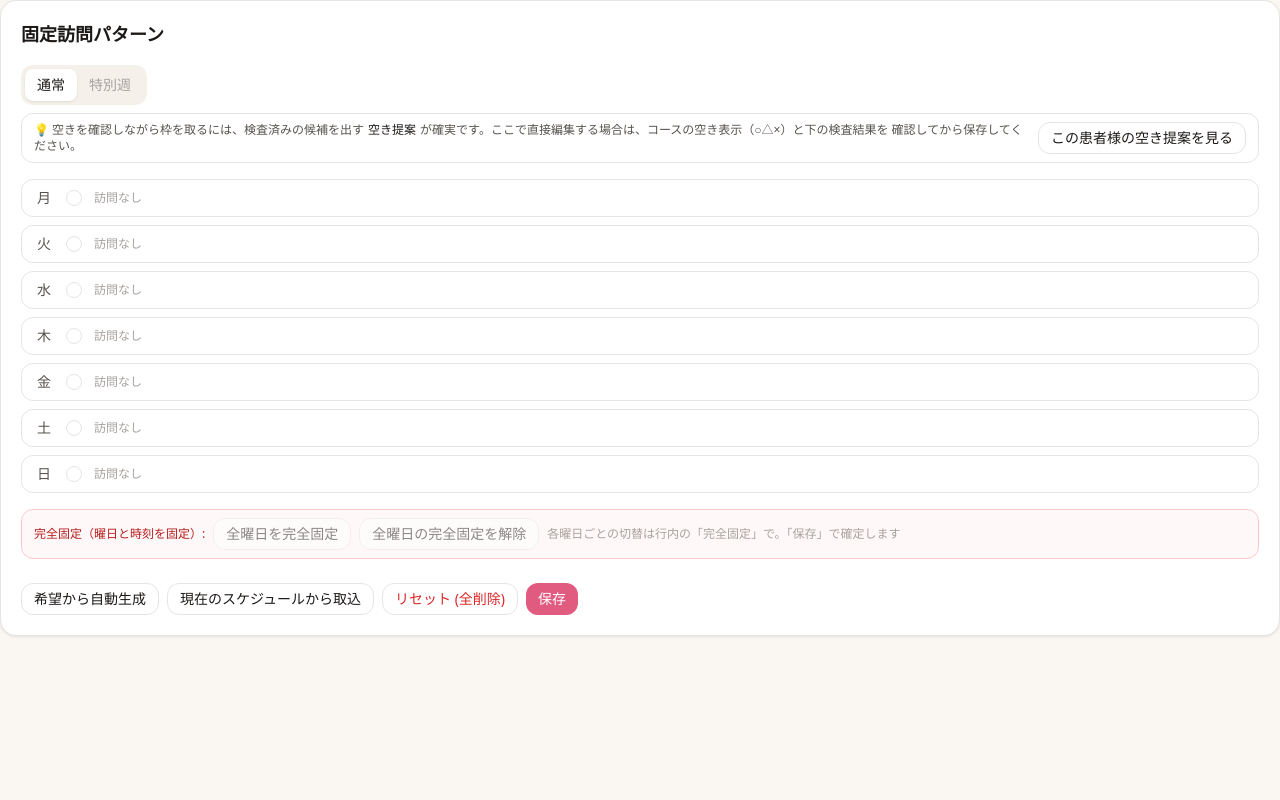
Test: PatientFixedVisitsPanel › 案Z (賢いマスタ) › SM-5. 二段検査 — week_conflict は「今週の検査」の段に分かれて表示される
Click the checkbox named "月曜日 訪問あり" at (74, 198), box [66,190,82,206]
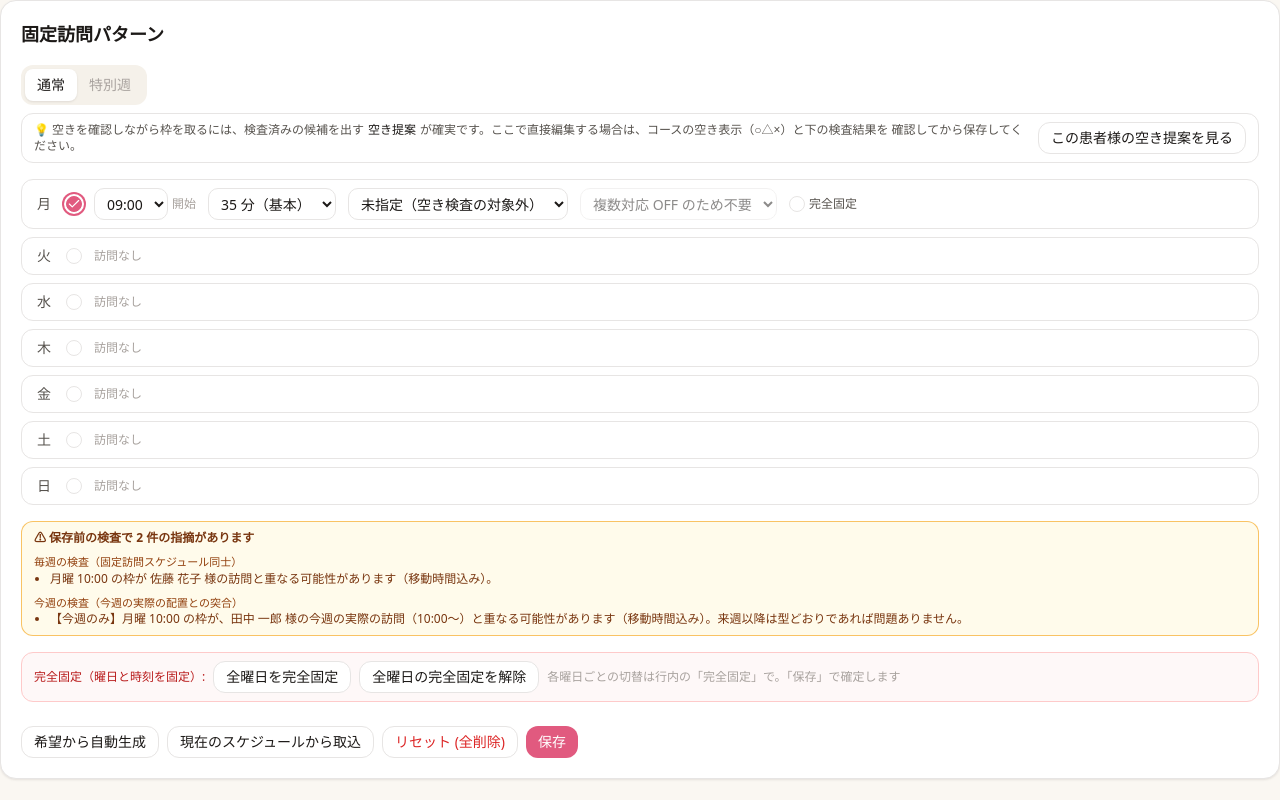
Check: the element with test id "pfv-warnings-weekly" shows "佐藤 花子", box [50,570,498,586]
Check: the element with test id "pfv-warnings-week-only" shows "【今週のみ】", box [50,610,969,627]
Check: the element with test id "pfv-warnings-week-only" shows "田中 一郎", box [50,610,969,627]
